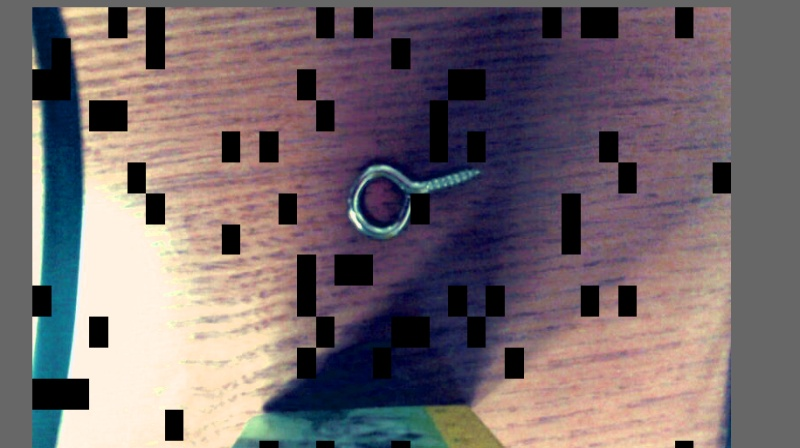O001: (342, 158, 482, 240)
